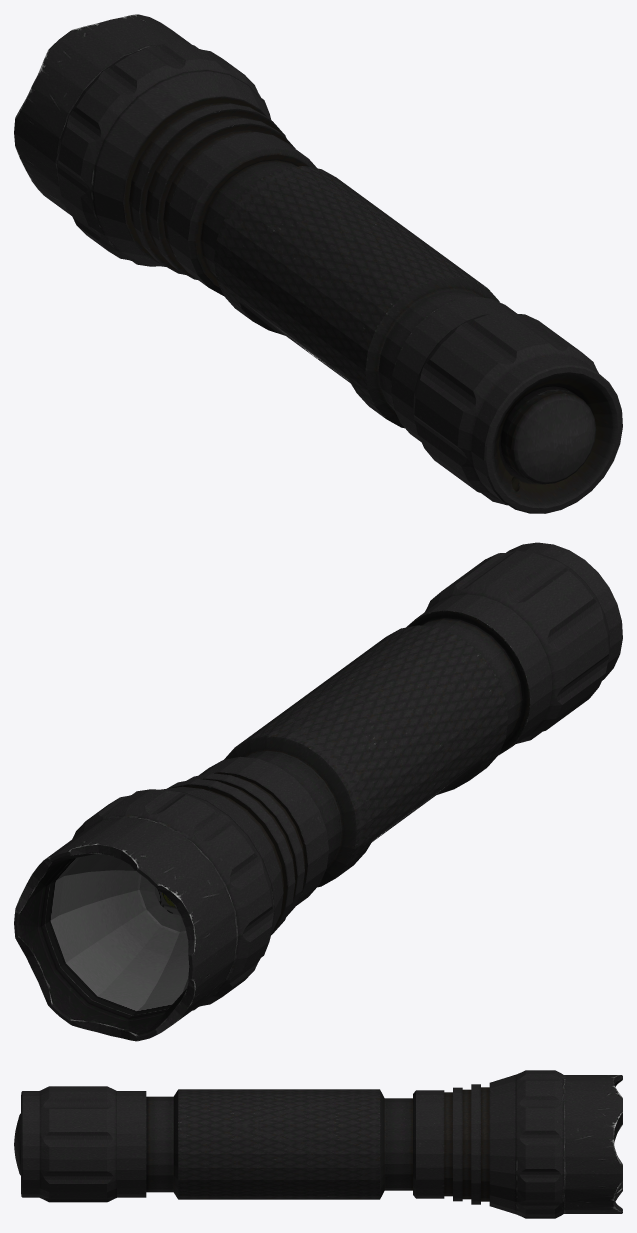
3 renders of one model, top to bottom at view 1: azimuth 30°, elevation 25°; view 2: azimuth 150°, elevation 25°; view 3: azimuth 270°, elevation 25°, orthographic. The views are drawn at different scales.
Visible parts, largest first — view 1: TW_57d17c5e2459775a5c57d17d_PZ_Import; view 2: TW_57d17c5e2459775a5c57d17d_PZ_Import; view 3: TW_57d17c5e2459775a5c57d17d_PZ_Import.
Part boxes in pixels (box(x1,y1,x2,y2)): TW_57d17c5e2459775a5c57d17d_PZ_Import: box(14, 14, 622, 513); TW_57d17c5e2459775a5c57d17d_PZ_Import: box(14, 542, 622, 1041); TW_57d17c5e2459775a5c57d17d_PZ_Import: box(14, 1070, 622, 1218).
Size of the model in its own units: 0.0191 by 0.0788 by 0.0191.
Materials: 1 (1 with a texture image).
